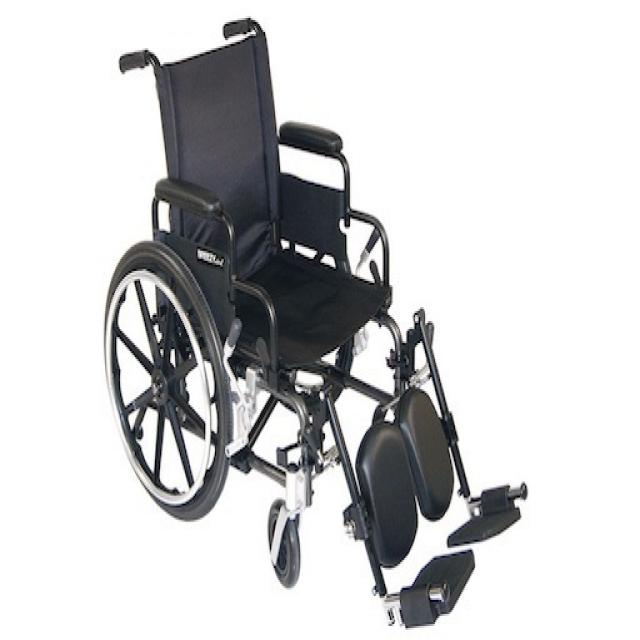wheelchair: (96, 5, 539, 636)
